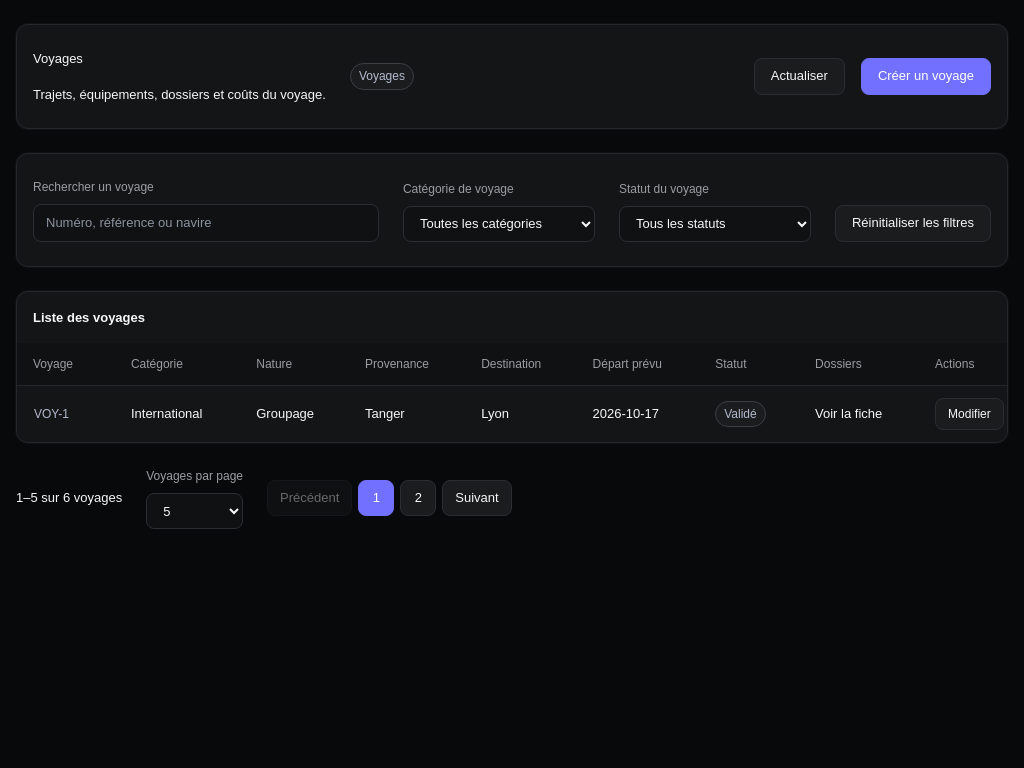
Voyages API presentation › shows server totals and second page without double slicing
Check: the text "1–5 sur 6 voyages" is shown, box x1=16 y1=488 x2=122 y2=508
Check: the text "Voir la fiche" is shown, box x1=799 y1=386 x2=919 y2=442
Click the button "Suivant" at (477, 498), box x1=442 y1=480 x2=512 y2=516
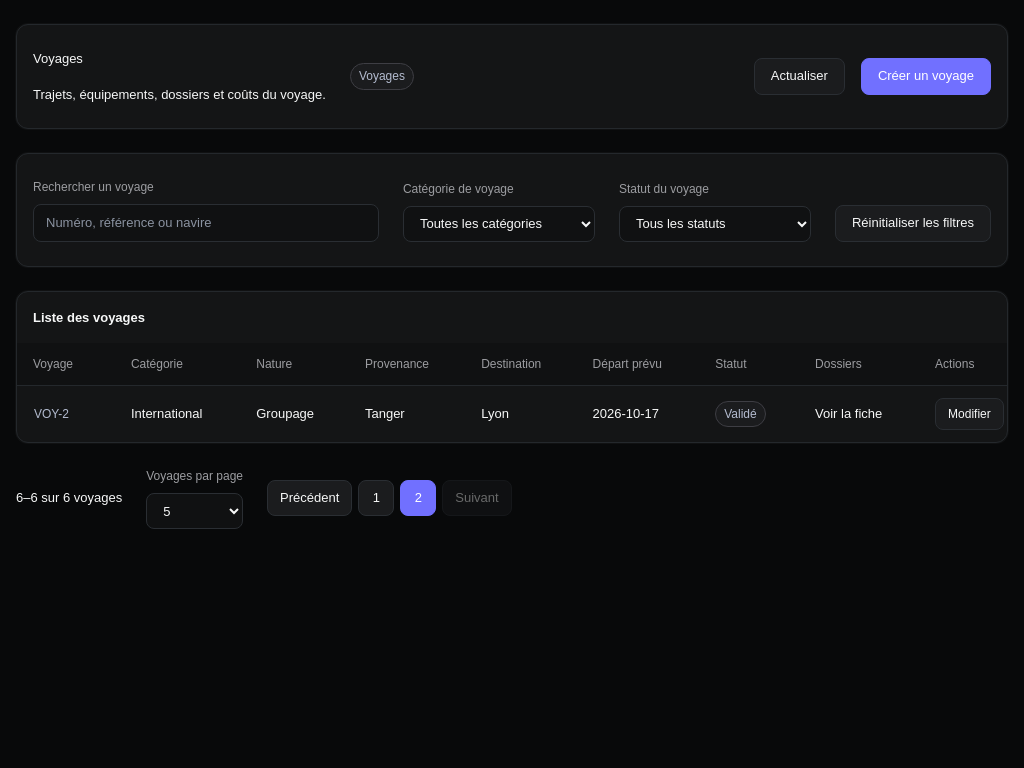
Check: the button "VOY-2" is shown, box x1=33 y1=398 x2=82 y2=430
Check: the text "6–6 sur 6 voyages" is shown, box x1=16 y1=488 x2=122 y2=508
